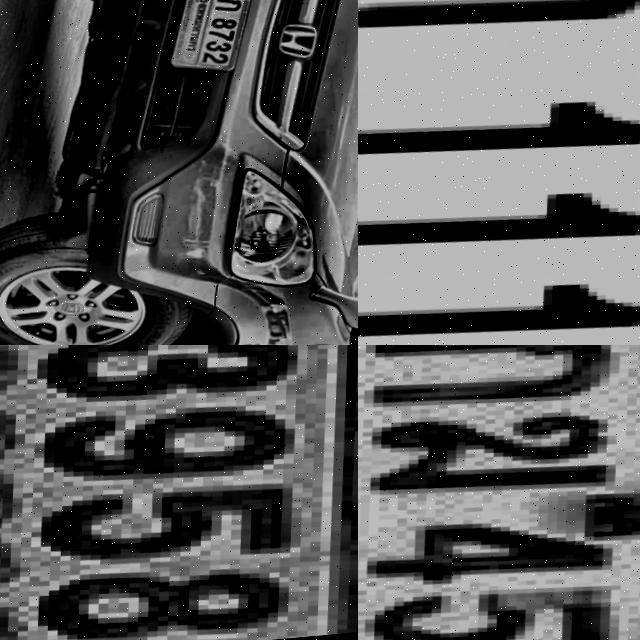license-plate: (0, 345, 358, 640), (358, 0, 640, 345), (358, 345, 640, 640), (166, 0, 260, 79)
